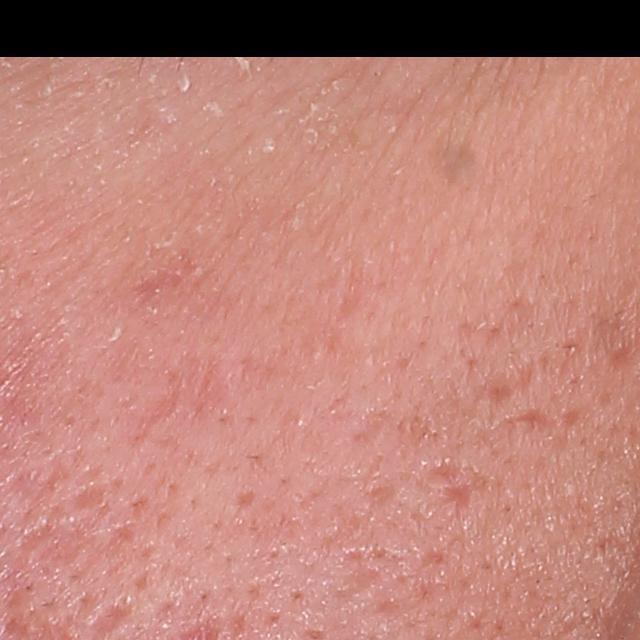atrophic_scar: (488, 409, 554, 436), (86, 605, 135, 638)
other: (428, 127, 481, 182)
